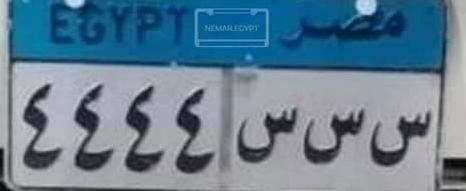4: (116, 75, 167, 181), (66, 79, 117, 177), (16, 74, 63, 176), (171, 81, 219, 178)
seen: (368, 92, 432, 178), (300, 94, 367, 172), (234, 102, 298, 174)
